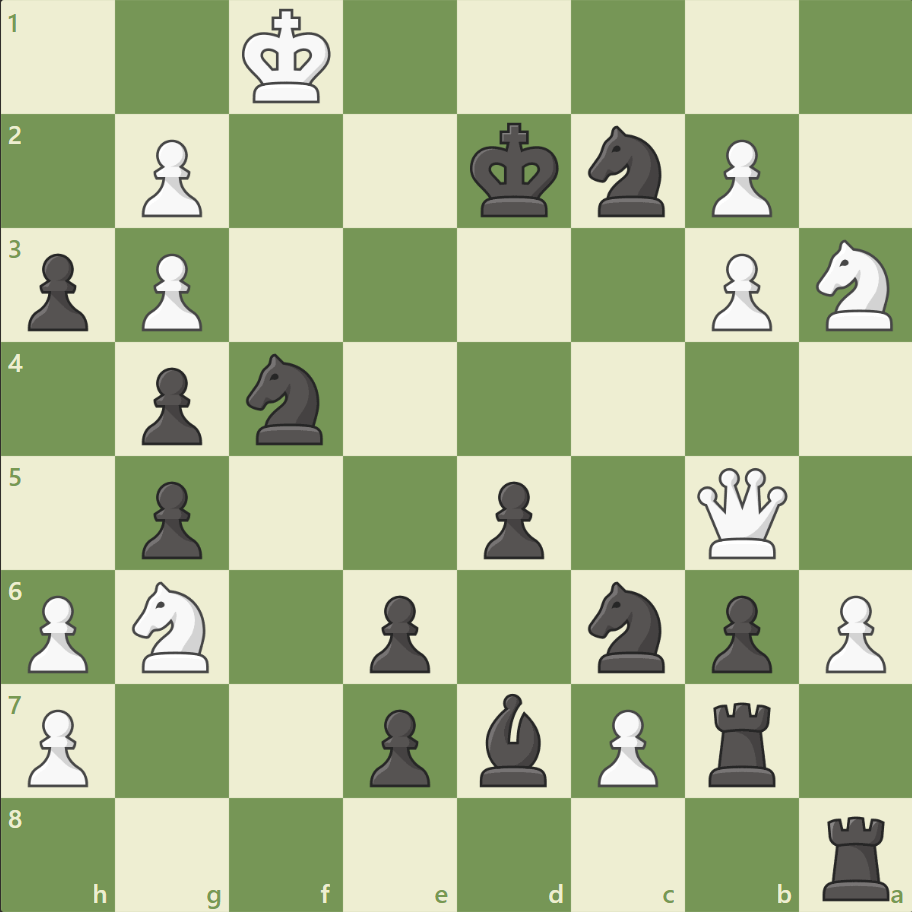K: (238, 4, 338, 112)
N: (124, 575, 222, 677), (806, 234, 903, 337)
P: (20, 700, 95, 791), (20, 586, 95, 677), (701, 246, 776, 337), (133, 246, 208, 337), (701, 132, 776, 223), (133, 132, 208, 223), (588, 700, 662, 791), (815, 586, 889, 677)
Q: (691, 463, 790, 562)
b: (471, 687, 555, 790)
k: (465, 117, 565, 225)
n: (579, 575, 676, 677), (238, 348, 335, 450), (579, 121, 676, 223)
p: (701, 586, 776, 677), (474, 473, 549, 564), (133, 473, 208, 564), (133, 359, 208, 450), (20, 246, 95, 337), (361, 700, 435, 791), (361, 586, 435, 677)
r: (814, 806, 897, 904), (700, 693, 783, 790)
